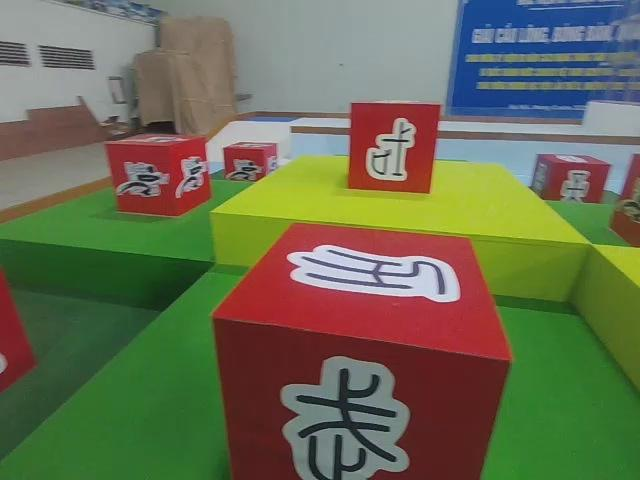R1: (104, 134, 214, 217), (220, 139, 279, 183)
R2 Fake: (209, 219, 513, 480)
R2 Real: (346, 98, 440, 197), (530, 153, 611, 207)
